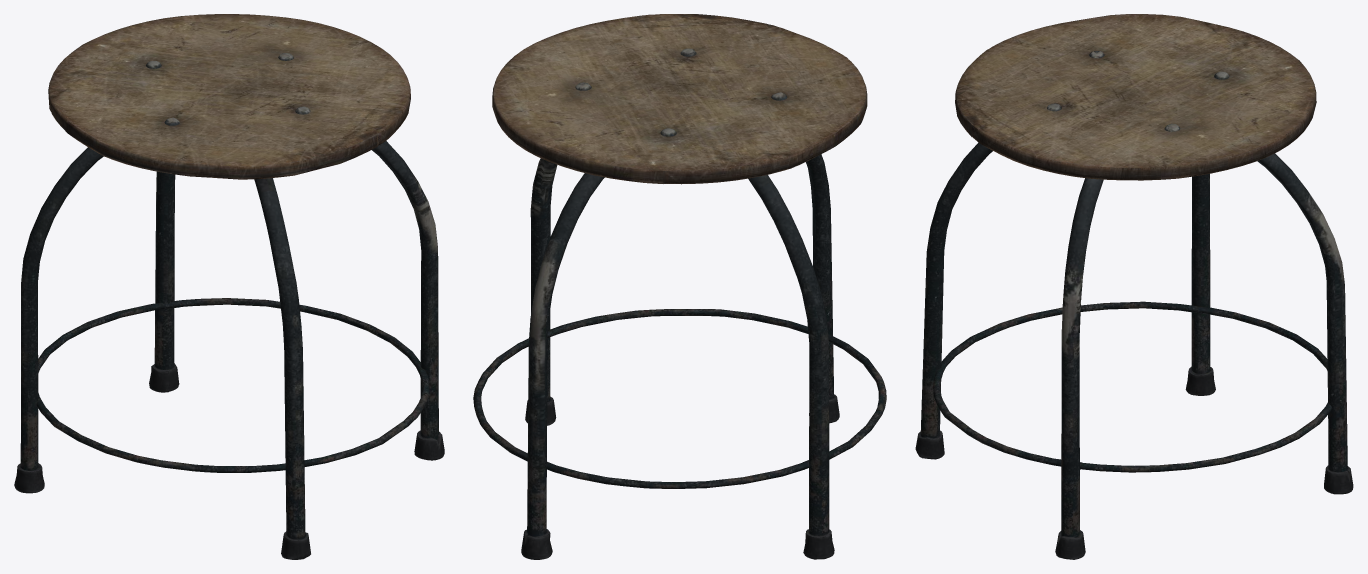
The model's file is ph_metal_stool.gltf.
3 views of the same model, side by side, from view 1: azimuth 30°, elevation 25°; view 2: azimuth 150°, elevation 25°; view 3: azimuth 270°, elevation 25° (orthographic). The views are drawn at different scales.
Parts seen in each view (by area): view 1: Body; view 2: Body; view 3: Body.
Boxes of the visible parts, x1,y1,x2,y2 form: Body: [14, 14, 444, 559]; Body: [473, 14, 886, 559]; Body: [915, 14, 1353, 559].
Size of the model in its own units: 0.4481 by 0.4582 by 0.4728.
1 material, 1 textured.
